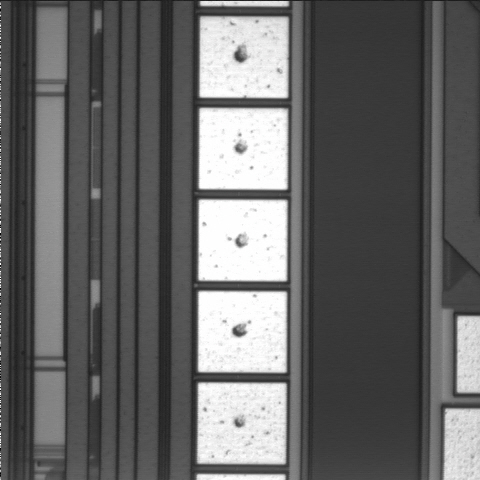pad: (199, 108, 288, 190), (198, 199, 287, 281), (198, 291, 287, 373), (199, 17, 288, 98), (197, 383, 286, 464)
